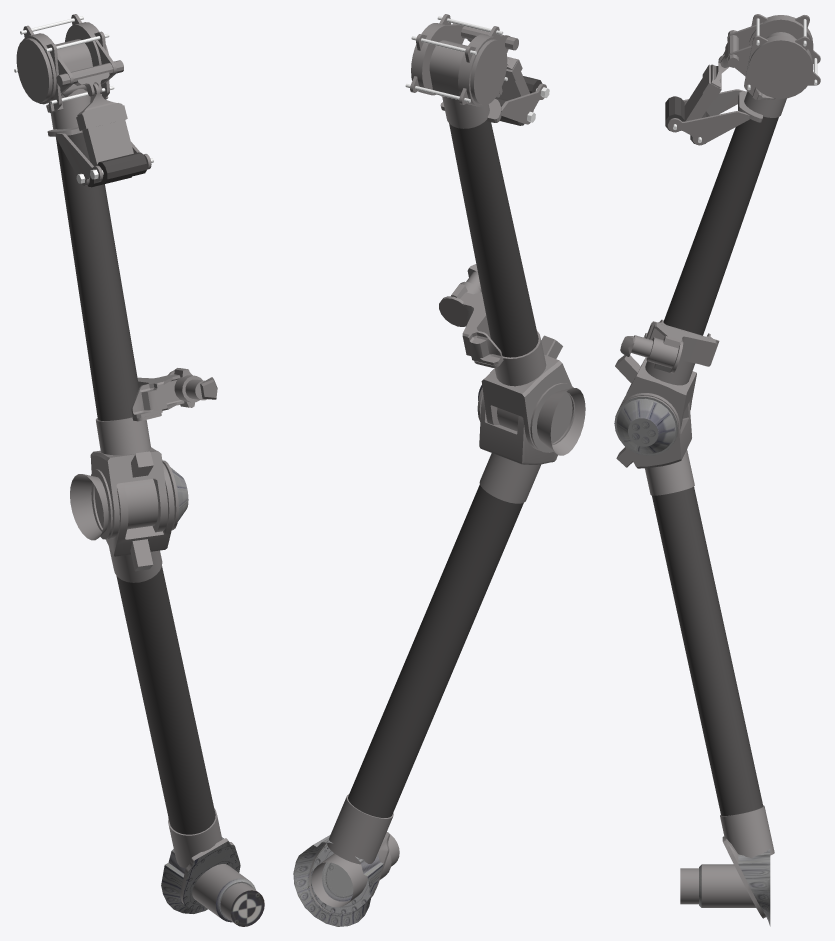
File: Perseverance_front_bogie_arm.glb
3 views of the same model, side by side, from view 1: azimuth 30°, elevation 25°; view 2: azimuth 150°, elevation 25°; view 3: azimuth 270°, elevation 25° (orthographic). The views are drawn at different scales.
Visible parts, largest first — view 1: susp.front_bogie_arm; view 2: susp.front_bogie_arm; view 3: susp.front_bogie_arm.
Part boxes in pixels (box(x1,y1,x2,y2)): susp.front_bogie_arm: box(14, 14, 264, 926); susp.front_bogie_arm: box(293, 14, 585, 926); susp.front_bogie_arm: box(614, 14, 820, 926).
Bounding box in the file's own units: 0.4281 × 1.78 × 0.3959.
5 materials, 2 textured.
